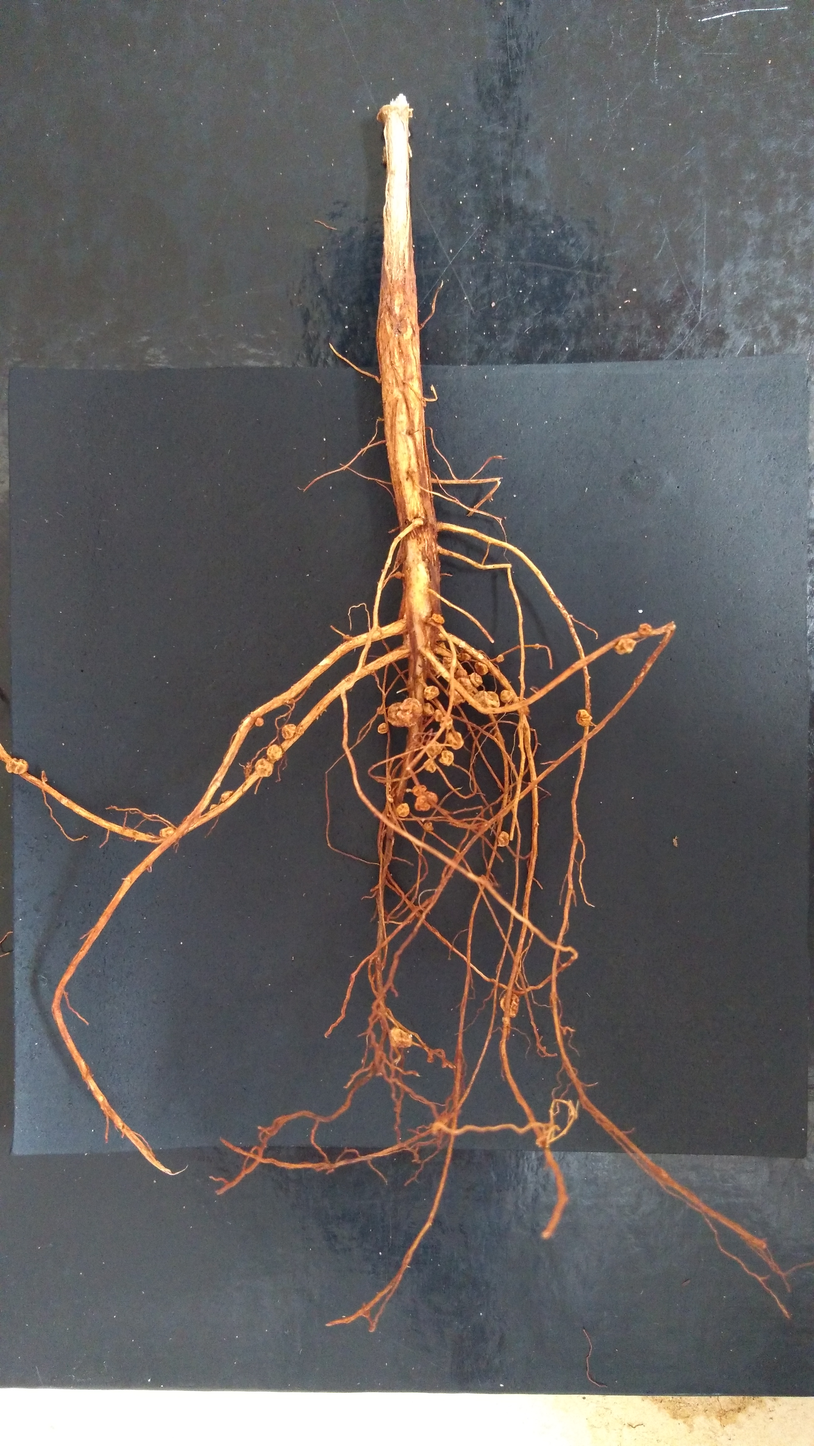nodule: (384, 696, 422, 729), (447, 677, 473, 709), (474, 688, 502, 711), (4, 755, 29, 778), (388, 1025, 413, 1047), (499, 991, 519, 1017), (443, 730, 467, 750), (571, 709, 596, 728), (254, 758, 274, 779), (277, 722, 300, 740), (267, 742, 285, 765), (614, 637, 637, 655), (472, 658, 492, 677), (421, 684, 442, 701), (438, 748, 455, 769), (425, 739, 443, 758), (410, 782, 429, 799), (429, 611, 449, 627), (423, 789, 439, 809), (467, 671, 484, 688), (414, 795, 431, 812), (637, 622, 655, 638), (496, 829, 511, 848), (394, 801, 410, 818), (499, 687, 513, 706), (421, 700, 435, 718), (439, 714, 454, 730), (375, 721, 390, 736), (431, 706, 443, 724), (220, 789, 235, 803), (424, 760, 438, 775), (159, 826, 175, 838), (423, 819, 436, 833), (441, 656, 455, 669), (253, 716, 266, 728), (458, 651, 472, 662), (456, 667, 468, 677), (496, 652, 505, 664), (209, 802, 218, 811), (394, 571, 402, 580), (534, 642, 540, 651)
